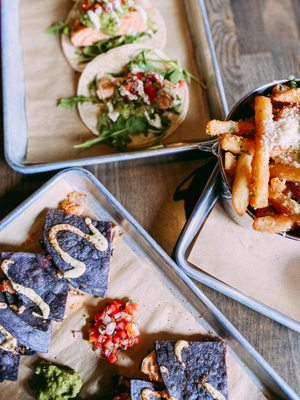curry: (5, 359, 83, 400)
sushi: (3, 0, 258, 176)
